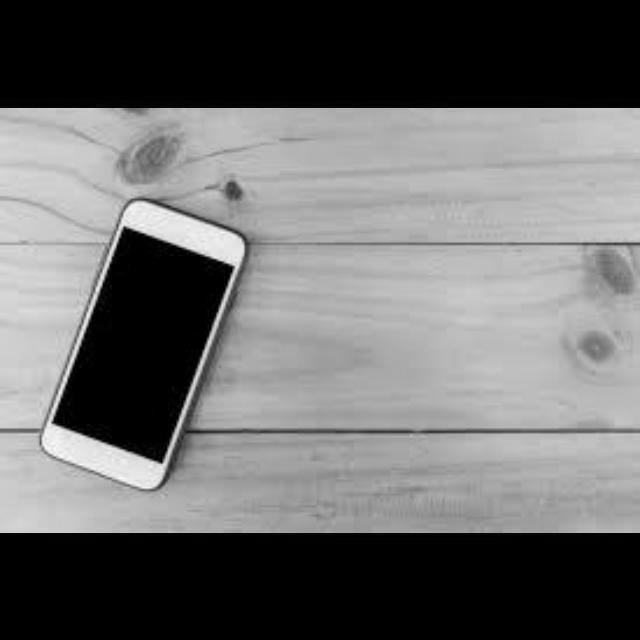fake: (42, 200, 238, 487)
